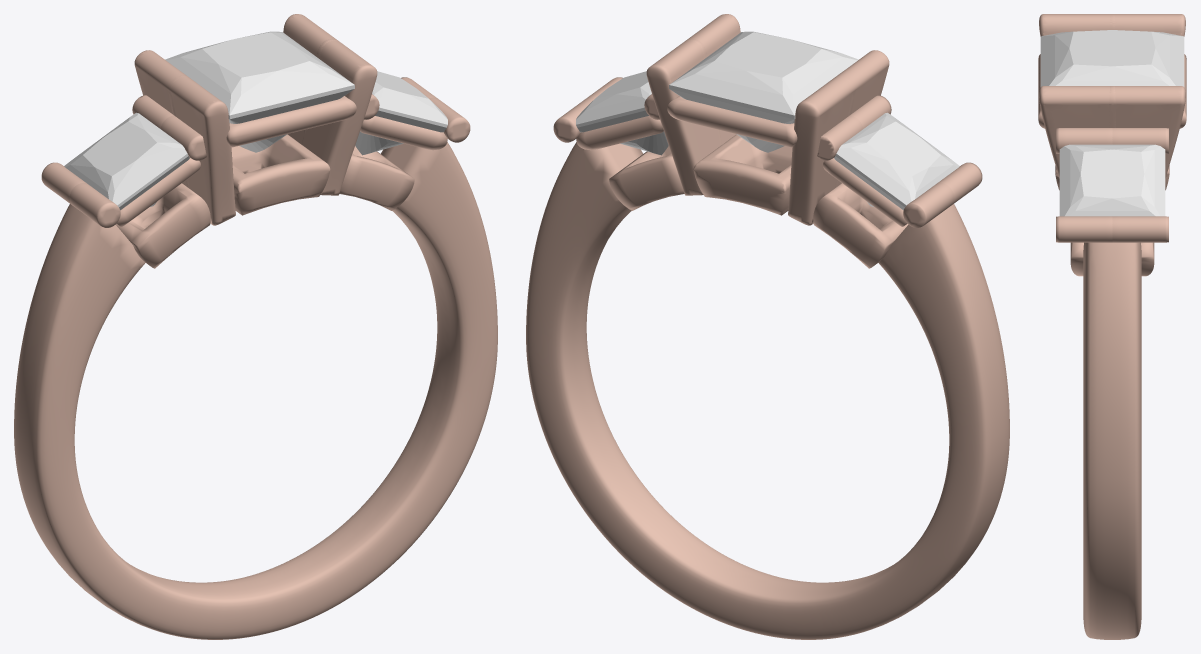
The model's file is diamond-princess-rosegold-halfmoonbezel-straightband-3stone.glb.
3 renders of one model, left to right at view 1: azimuth 30°, elevation 25°; view 2: azimuth 150°, elevation 25°; view 3: azimuth 270°, elevation 25°, orthographic.
Visible parts, largest first — view 1: metal, stone, side.002, side; view 2: metal, stone, side.002, side; view 3: metal, stone, side.
Part boxes in pixels (x1,y1,x2,y2): metal: (14,14,497,639); stone: (165,31,354,152); side.002: (64,112,189,210); side: (355,71,447,155); metal: (526,14,1009,639); stone: (669,31,858,152); side.002: (834,112,959,210); side: (576,71,668,155); metal: (1038,14,1186,639); stone: (1040,30,1184,86); side: (1059,144,1165,216).
Bounding box in the file's own units: 20.1 × 23.65 × 5.6.
